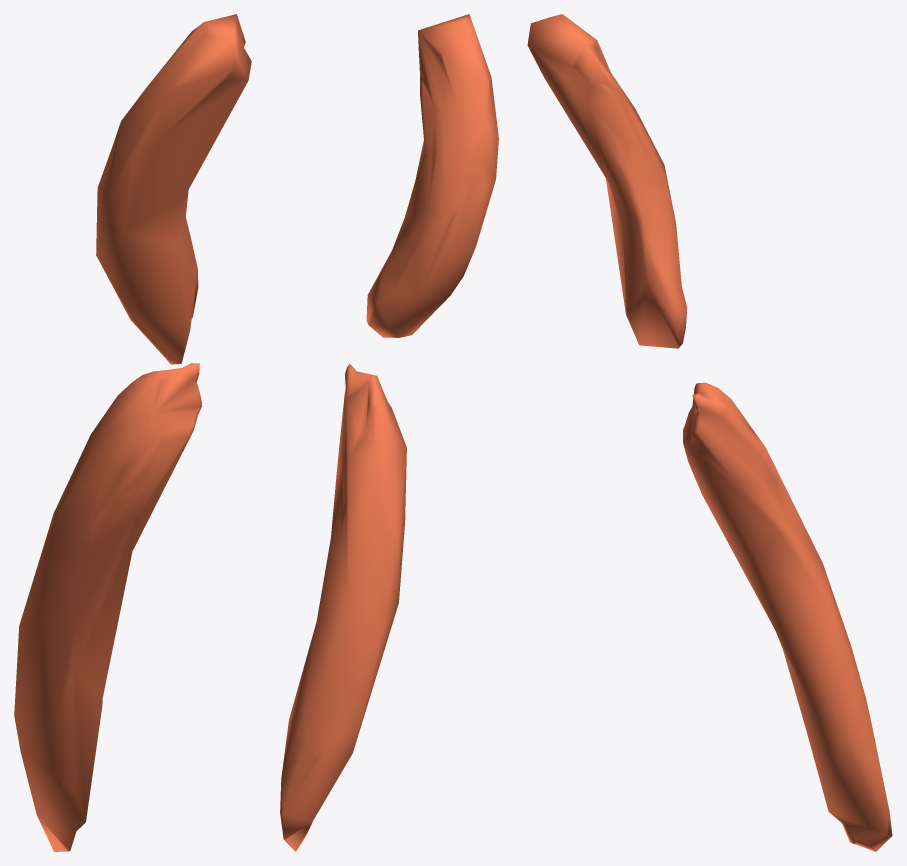
Rendered from Interspinales_thoracis_muscle.r_Generated_Mesh_From_X3D.444.glb.
The picture shows the model from 3 angles, left to right: view 1: azimuth 30°, elevation 25°; view 2: azimuth 150°, elevation 25°; view 3: azimuth 270°, elevation 25°; orthographic projection. The views are drawn at different scales.
Parts seen in each view (by area): view 1: Interspinales_thoracis_muscle.r_Generated_Mesh_From_X3D.444; view 2: Interspinales_thoracis_muscle.r_Generated_Mesh_From_X3D.444; view 3: Interspinales_thoracis_muscle.r_Generated_Mesh_From_X3D.444.
Boxes of the visible parts, x1=… form: Interspinales_thoracis_muscle.r_Generated_Mesh_From_X3D.444: x1=14, y1=14, x2=251, y2=851; Interspinales_thoracis_muscle.r_Generated_Mesh_From_X3D.444: x1=280, y1=14, x2=498, y2=851; Interspinales_thoracis_muscle.r_Generated_Mesh_From_X3D.444: x1=527, y1=14, x2=892, y2=851.
Size of the model in its own units: 0.0071 by 0.0449 by 0.0181.
